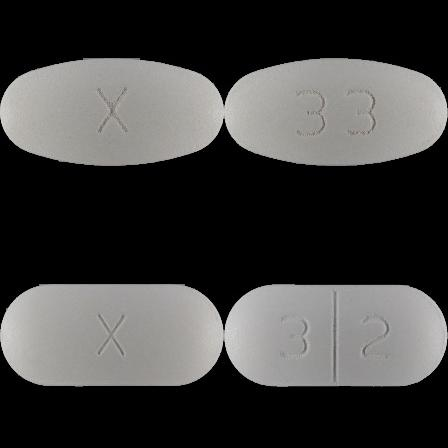16714-296: (0, 0, 224, 224)
